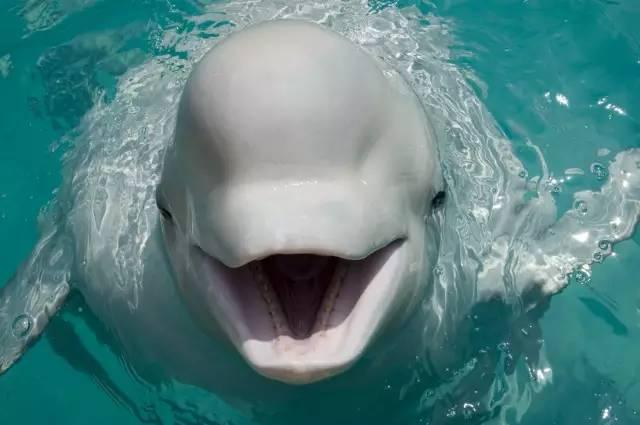fish: (1, 19, 639, 407)
